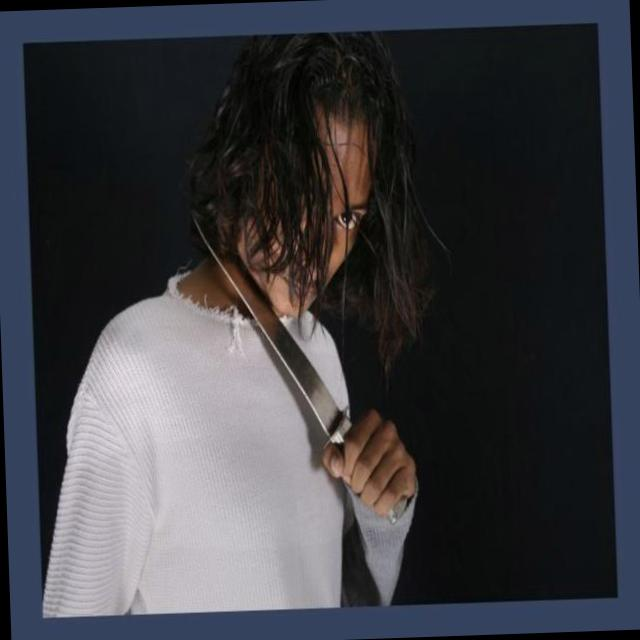Knife: (193, 218, 352, 444)
